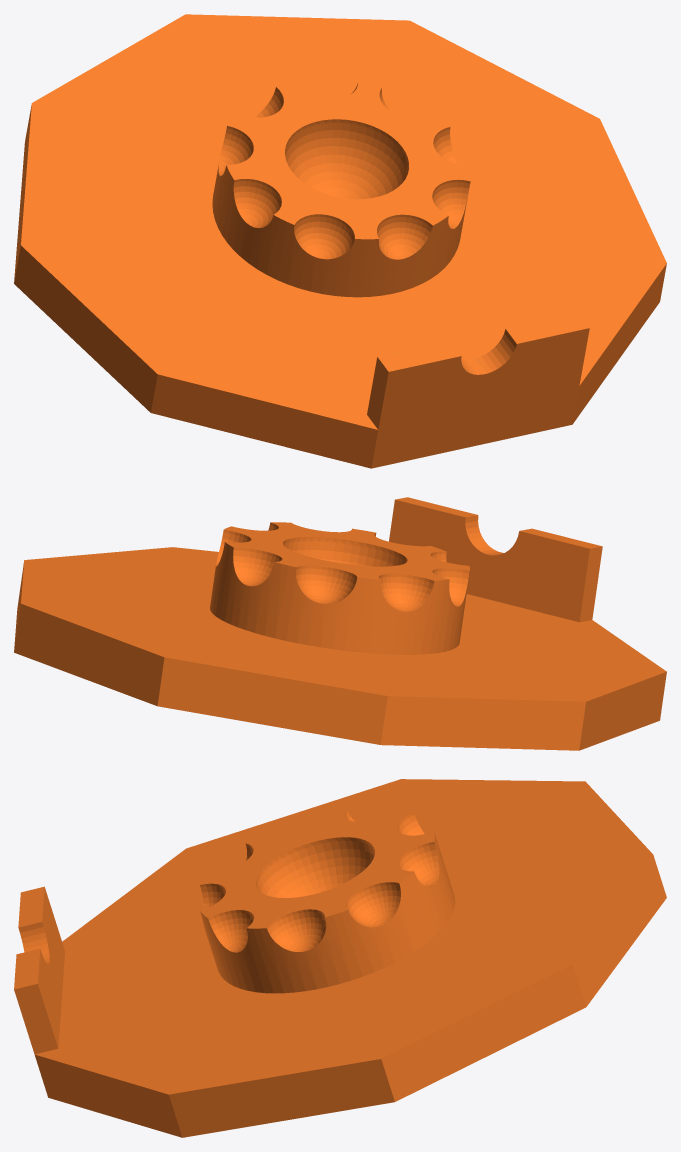
The model's file is col_base.glb.
3 renders of one model, top to bottom at view 1: azimuth 30°, elevation 25°; view 2: azimuth 150°, elevation 25°; view 3: azimuth 270°, elevation 25°, orthographic.
Visible parts, largest first — view 1: node_id3; view 2: node_id3; view 3: node_id3.
Boxes of the visible parts, x1,y1,x2,y2 form: node_id3: (14, 14, 666, 468); node_id3: (14, 497, 666, 750); node_id3: (14, 779, 666, 1137).
Size of the model in its own units: 0.5167 by 0.1907 by 0.5191.
1 material, 1 textured.
